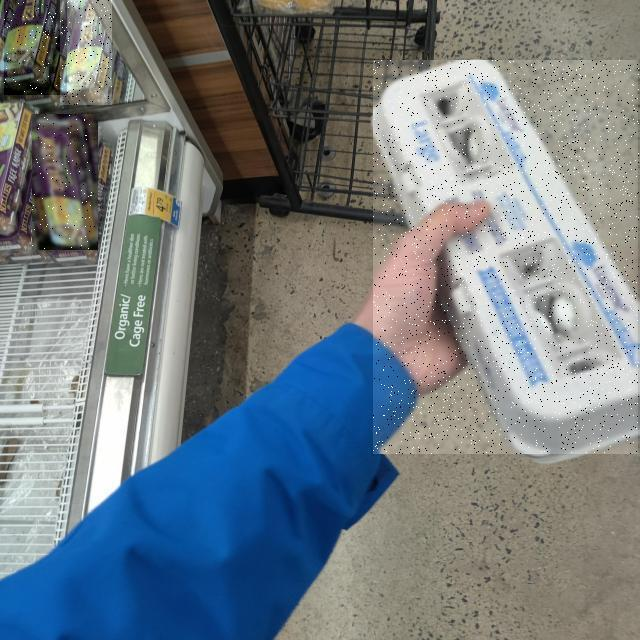Eggs: (374, 60, 640, 454), (32, 114, 98, 250), (4, 0, 67, 95), (60, 0, 112, 105)
